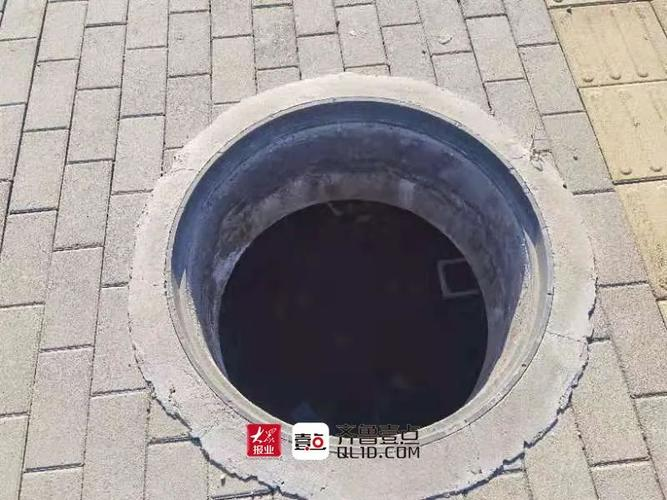lose: (128, 72, 598, 490)
